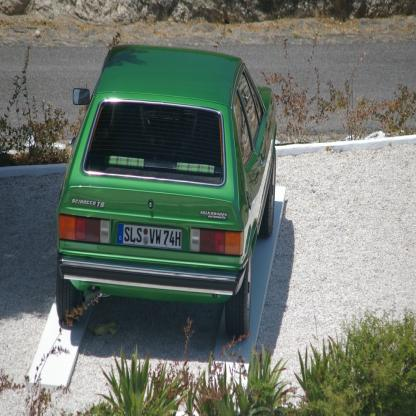Car: (49, 44, 279, 355)
